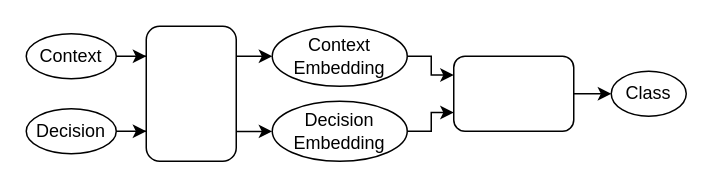
Image size: 713x188. Some labels were removed from this diagram. Each missing label, with the box of its shape:
Encoder LLM: (145, 25, 236, 161)
Multi Layered Perceptron: (452, 55, 574, 131)
